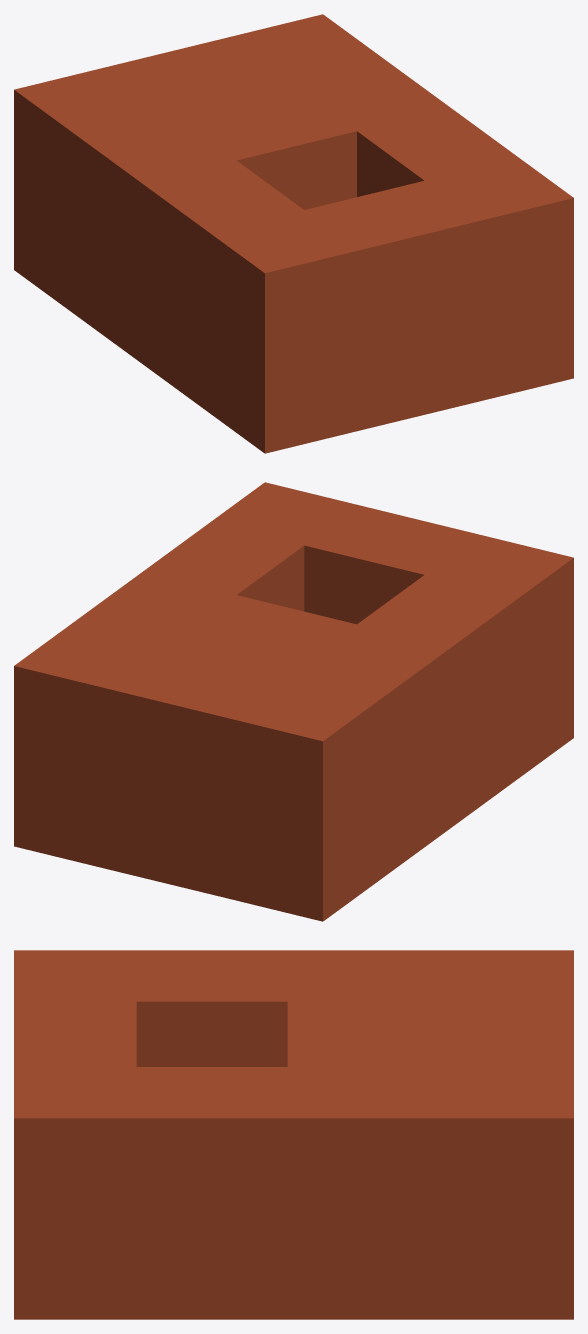
The model's file is room_5_2.glb.
3 views of the same model, one above another, from view 1: azimuth 30°, elevation 25°; view 2: azimuth 150°, elevation 25°; view 3: azimuth 270°, elevation 25° (orthographic). The views are drawn at different scales.
Visible parts, largest first — view 1: komnata_5_2; view 2: komnata_5_2; view 3: komnata_5_2.
Boxes of the visible parts, x1,y1,x2,y2 form: komnata_5_2: (14,14,573,453); komnata_5_2: (14,482,573,921); komnata_5_2: (14,950,573,1319).
Size of what is drawn, in the model's own units: 4.47 by 2.49 by 6.28.
